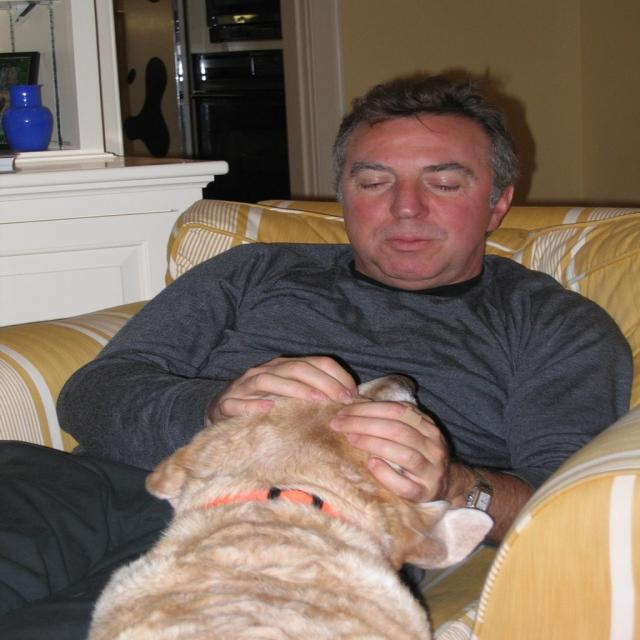Dog: (88, 374, 492, 638)
